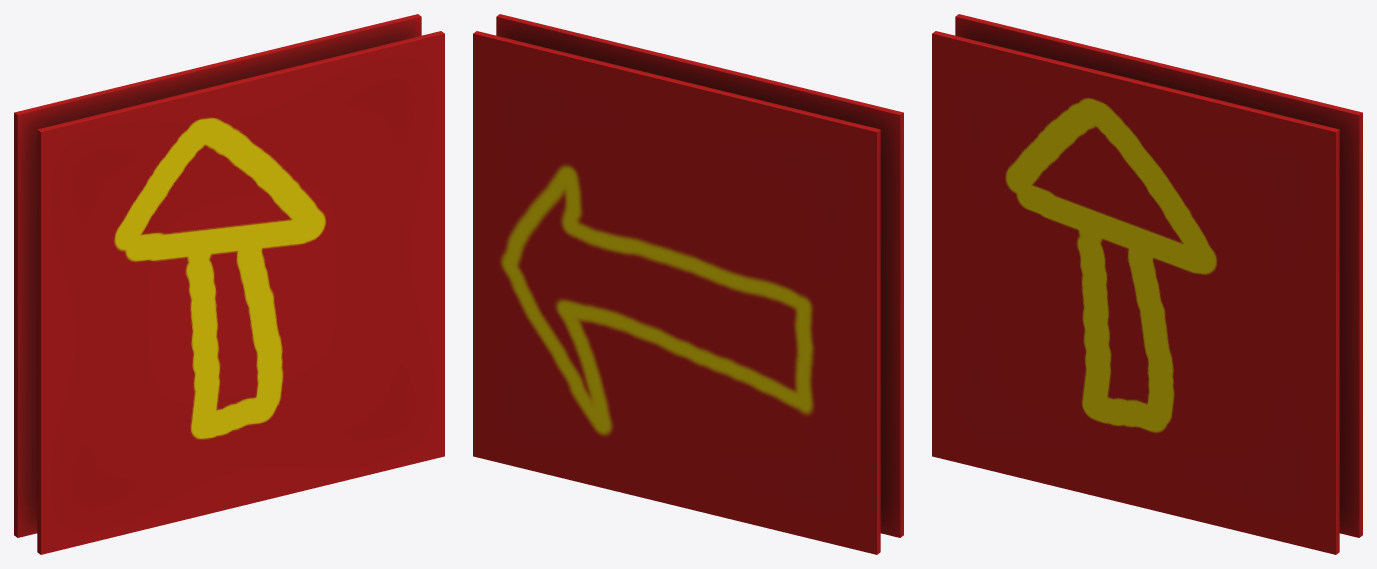
The model's file is squareplatformbooster.fbx.
3 renders of one model, left to right at view 1: azimuth 30°, elevation 25°; view 2: azimuth 150°, elevation 25°; view 3: azimuth 330°, elevation 25°, orthographic.
Visible parts, largest first — view 1: Cube; view 2: Cube; view 3: Cube.
Part boxes in pixels (<box>): Cube: <box>14,14,444,554</box>; Cube: <box>473,14,903,554</box>; Cube: <box>932,14,1362,554</box>.
Size of the model in its own units: 107 by 107 by 12.28.
Materials: 1 (1 with a texture image).
